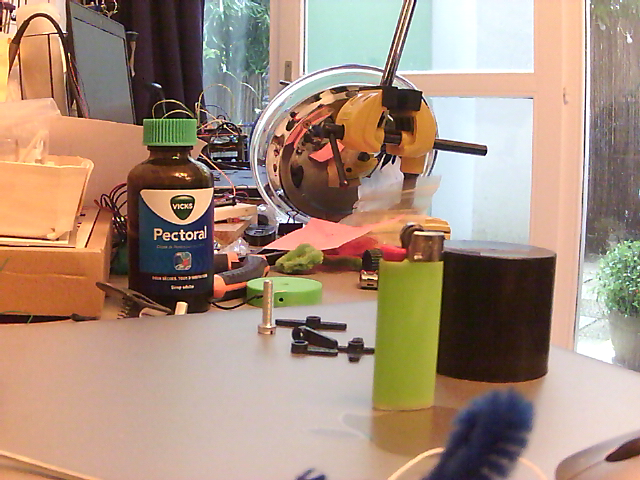bolt: (259, 277, 277, 337)
lighter: (376, 223, 445, 412)
